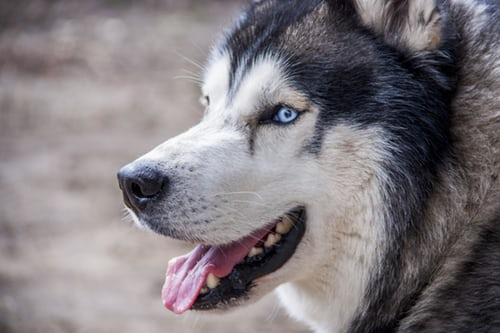husky: (107, 1, 436, 325)
